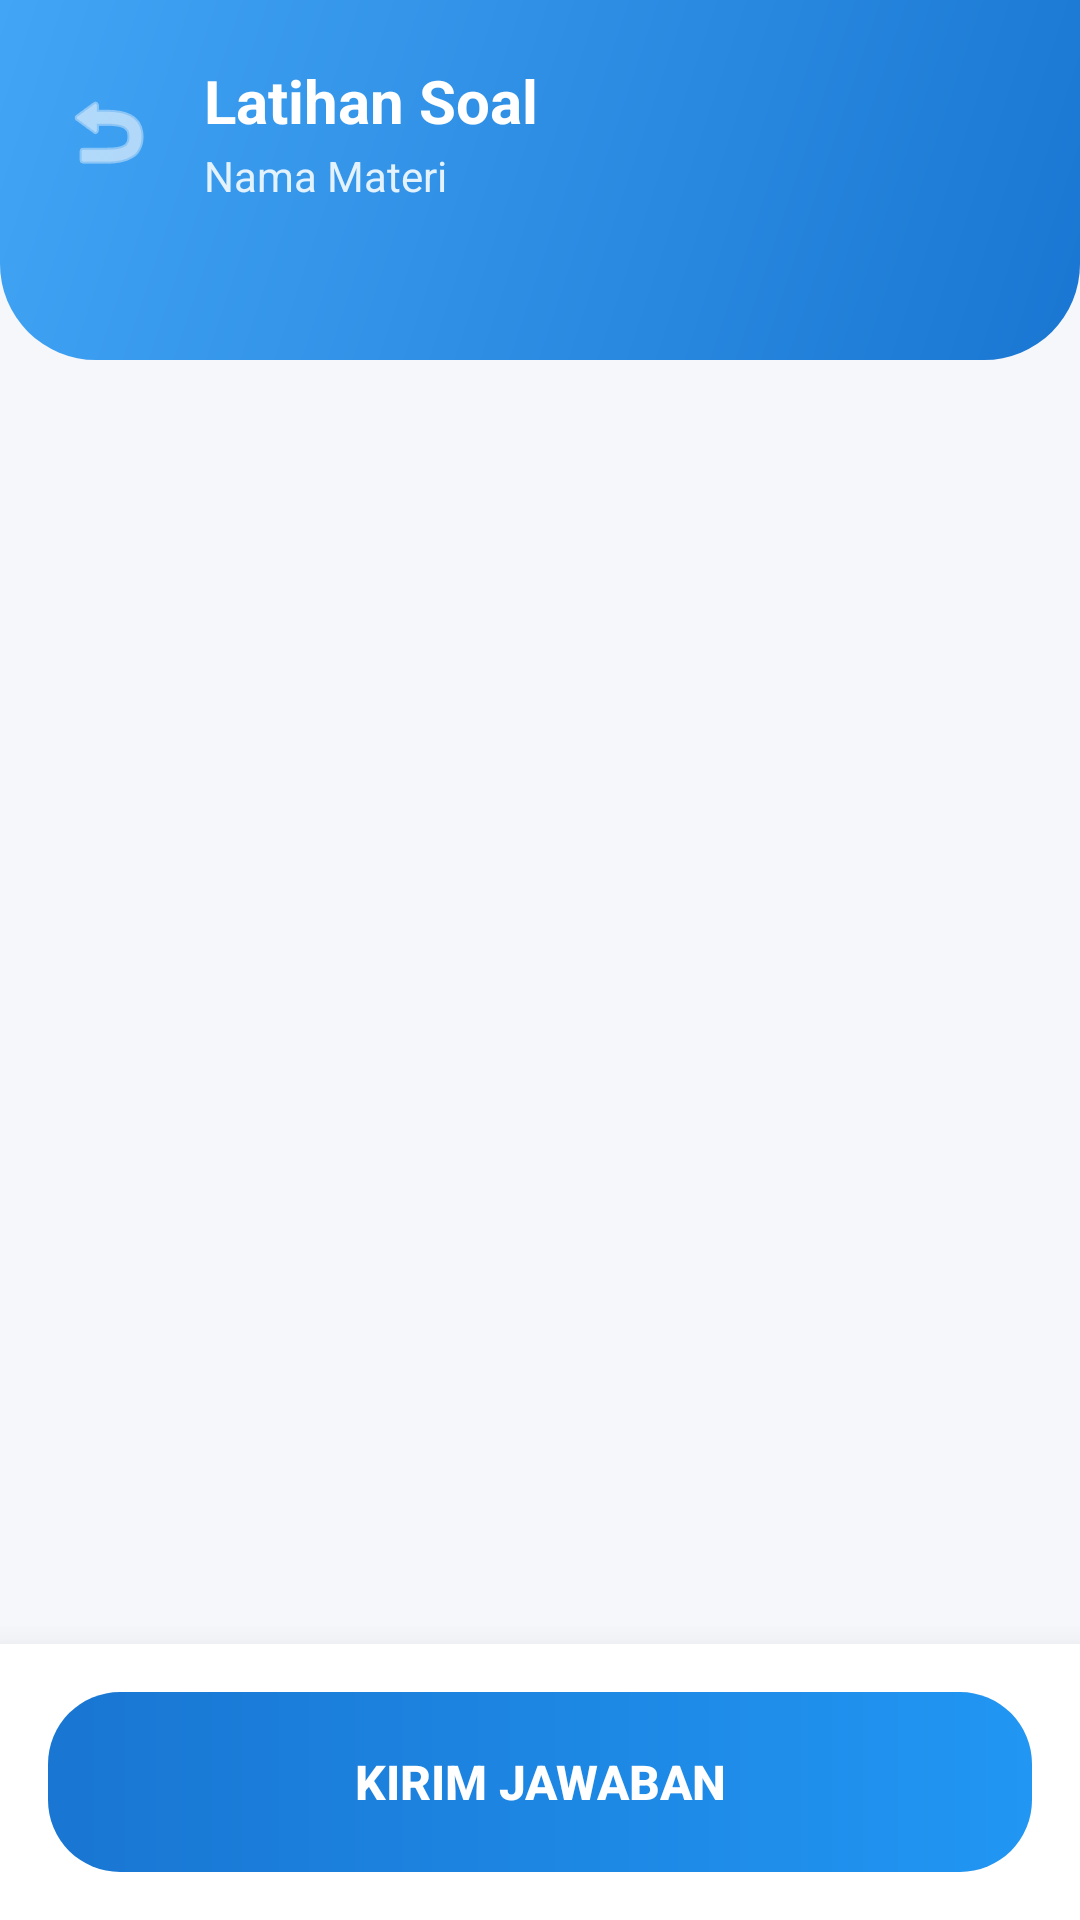

Icon bounding boxes for this 1080px x 1920px phone screenshot, format (x1, y1, x2, y2):
Kembali: (75, 101, 144, 164)
